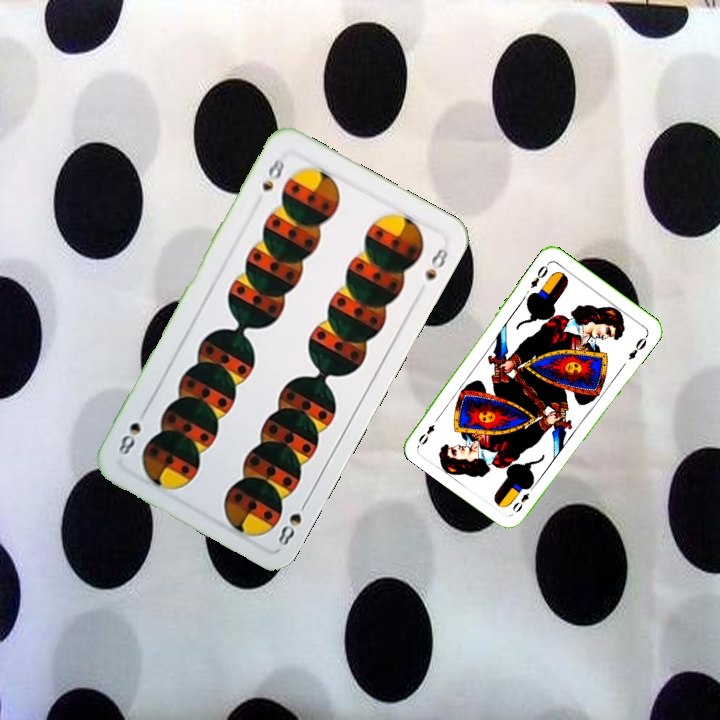EO: (508, 480, 538, 515), (526, 258, 552, 291)
S8: (274, 494, 312, 548), (258, 154, 287, 194)
